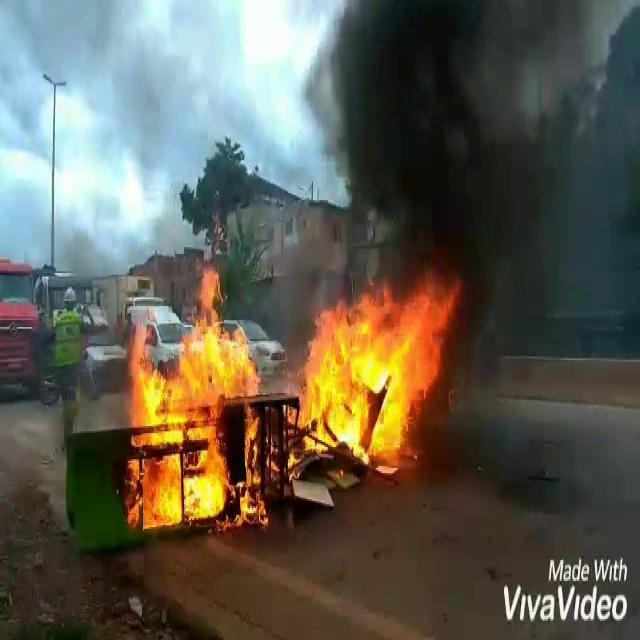Fire: (121, 269, 299, 532), (301, 280, 462, 458)
Smoke: (308, 0, 600, 278)
